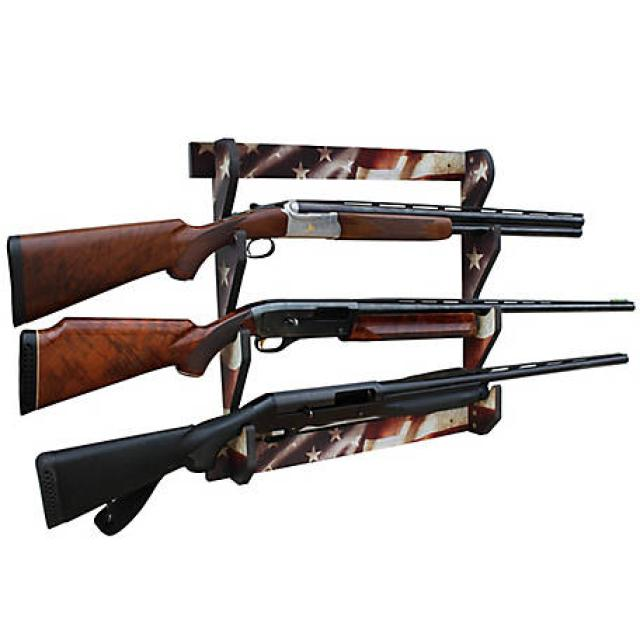ShotGun: (35, 354, 632, 529), (8, 201, 585, 324), (20, 299, 637, 414)
